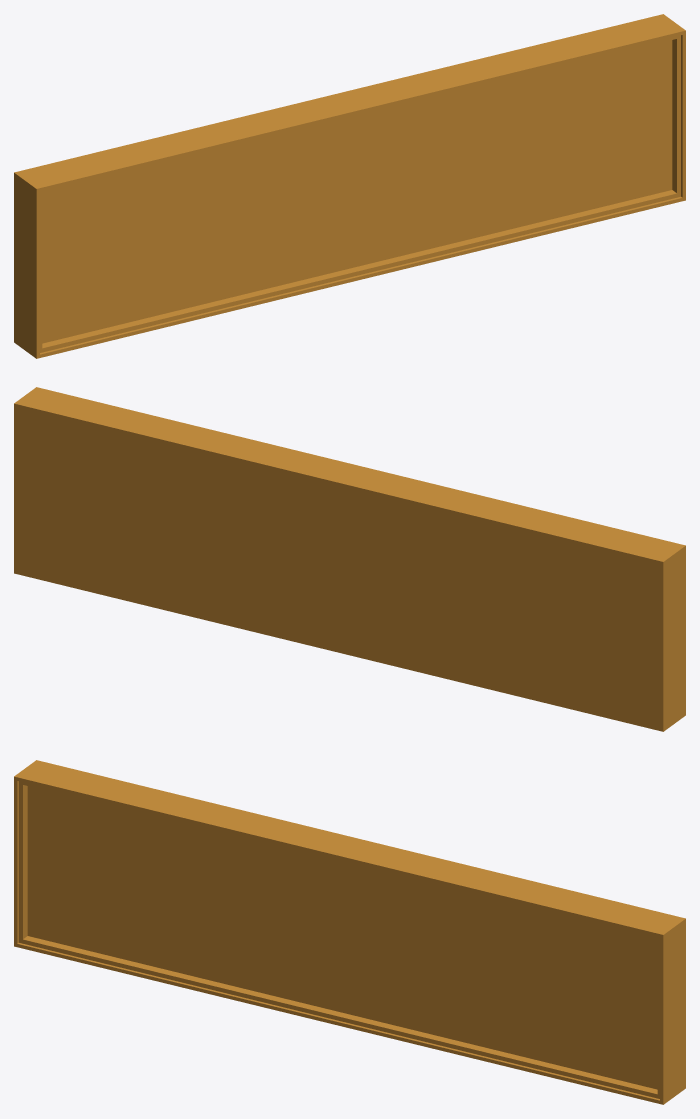
File: SM_sign_storefront_03.fbx
3 views of the same model, one above another, from view 1: azimuth 30°, elevation 25°; view 2: azimuth 150°, elevation 25°; view 3: azimuth 330°, elevation 25° (orthographic).
Visible parts, largest first — view 1: Box072; view 2: Box072; view 3: Box072.
Part boxes in pixels (box(x1,y1,x2,y2)): Box072: box(14, 14, 685, 358); Box072: box(14, 387, 685, 731); Box072: box(14, 760, 685, 1104).
Size of the model in its own units: 116 by 6.97 by 28.99.
